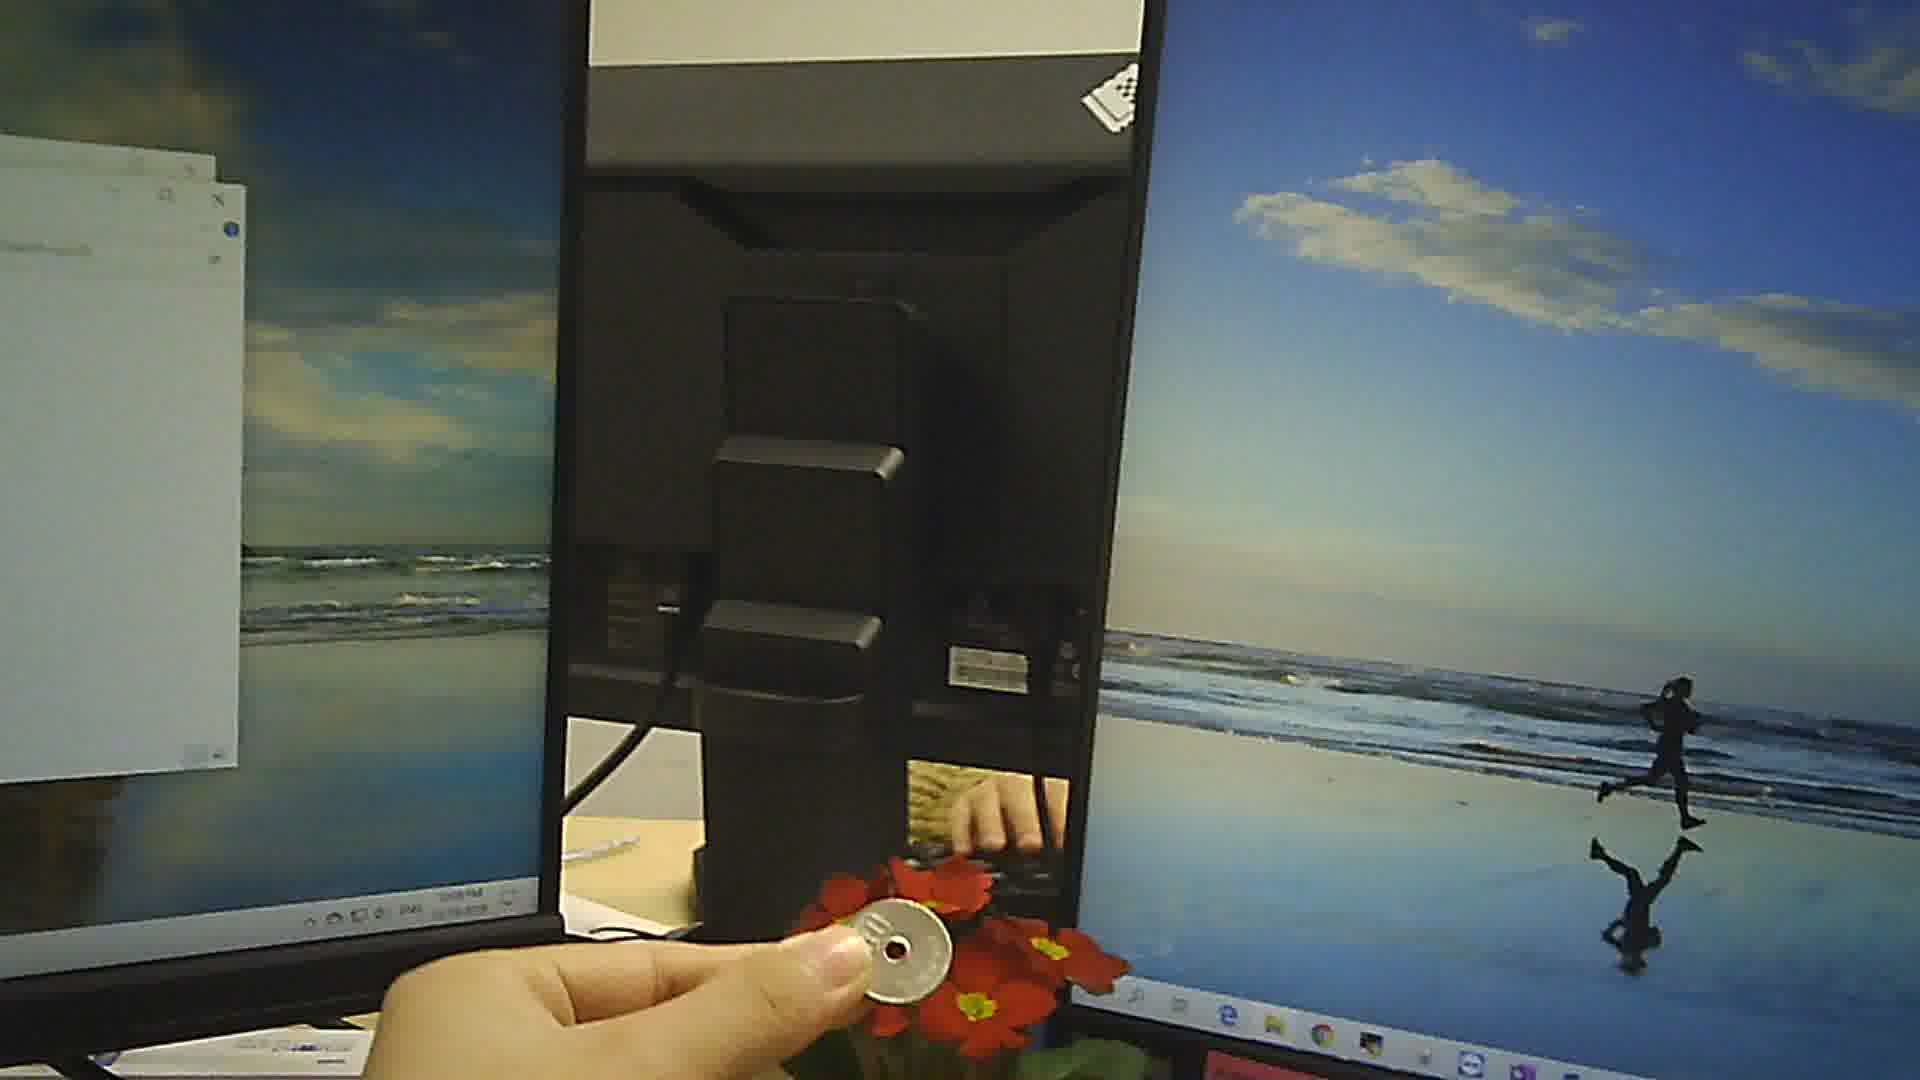50 Yen: (837, 895, 953, 1005)
